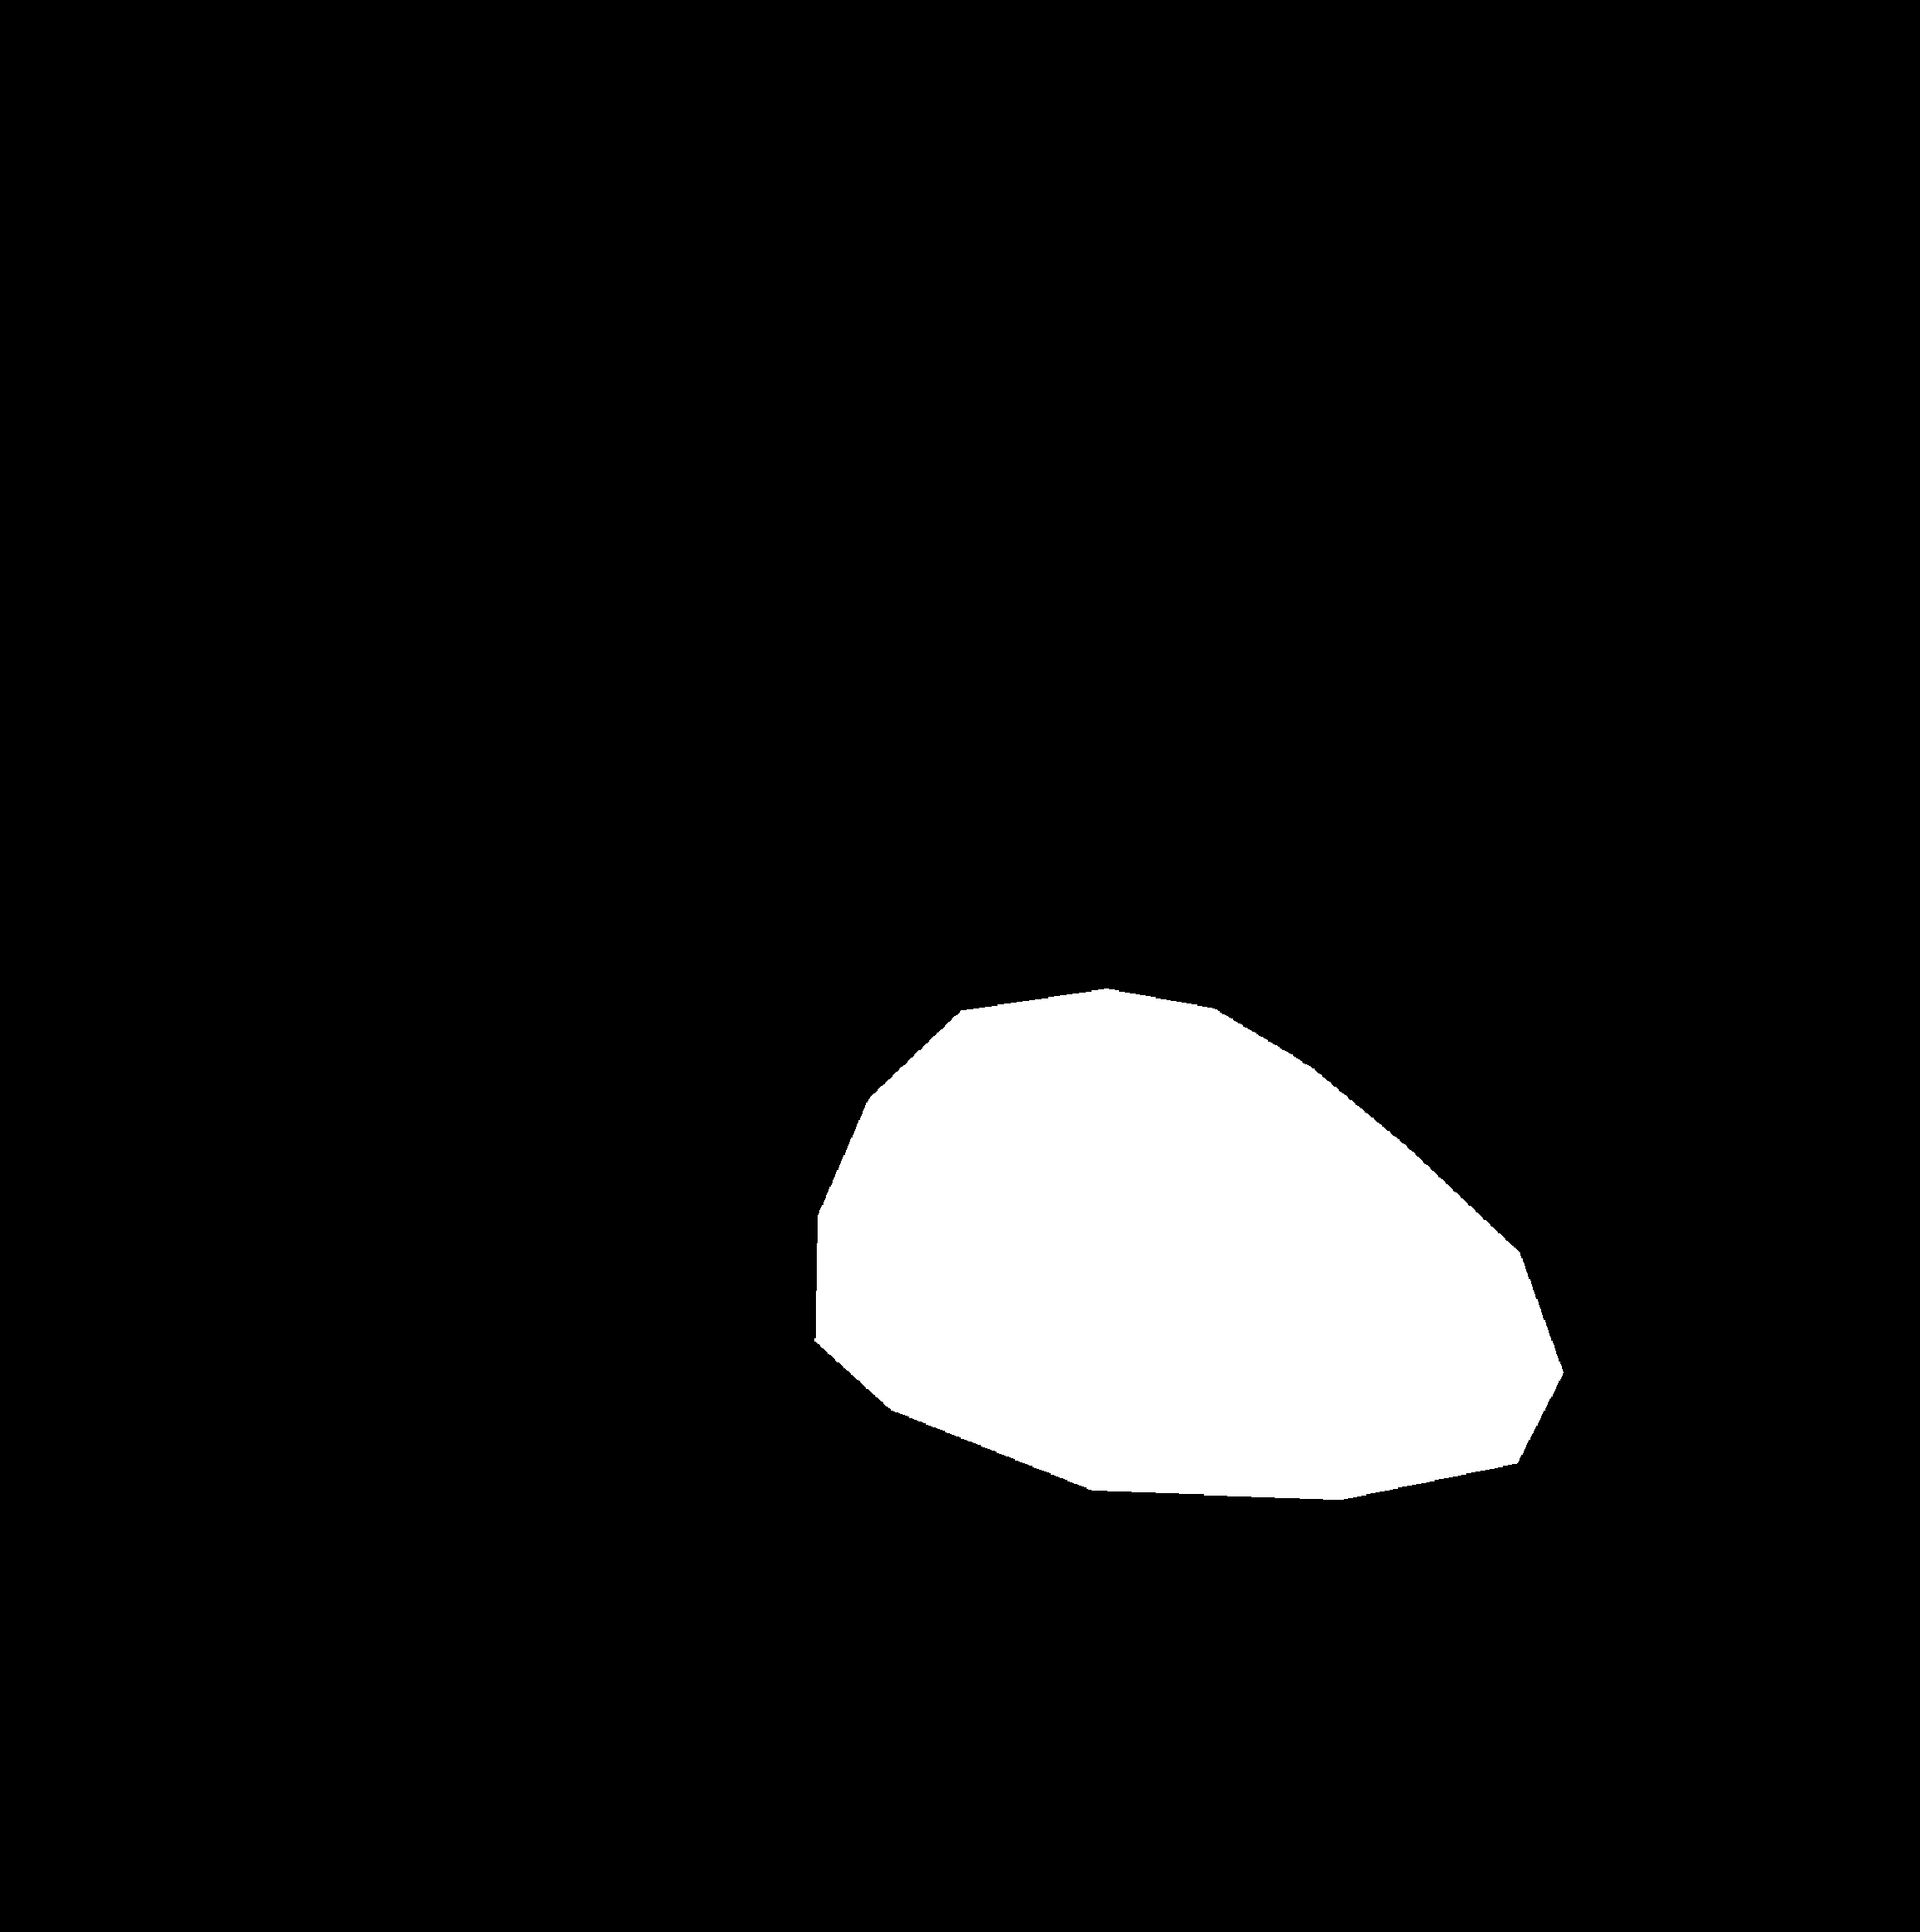heart: (807, 1051, 1565, 1559)
left_lung: (200, 227, 958, 1626)
right_lung: (1062, 237, 1718, 1682)
